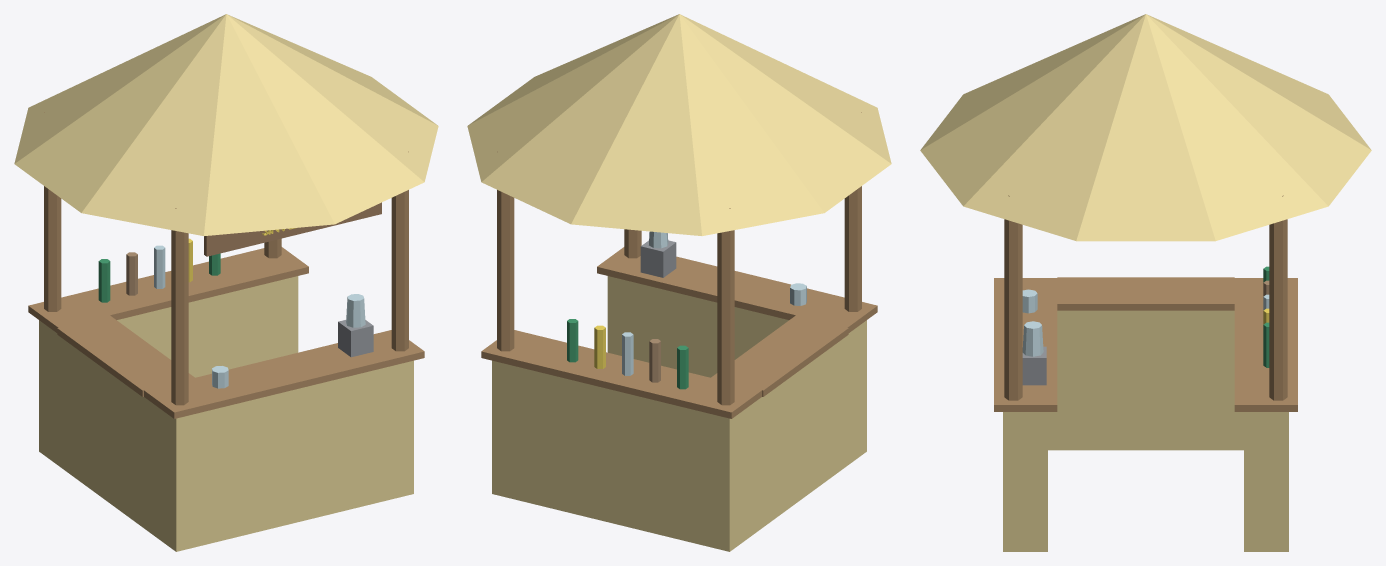
The model's file is CR_BarCubierta.fbx.
3 renders of one model, left to right at view 1: azimuth 30°, elevation 25°; view 2: azimuth 150°, elevation 25°; view 3: azimuth 270°, elevation 25°, orthographic. The views are drawn at different scales.
Parts seen in each view (by area): view 1: CR_BarCubierta; view 2: CR_BarCubierta; view 3: CR_BarCubierta.
Boxes of the visible parts, left/top/right/bottom form: CR_BarCubierta: left=14, top=14, right=438, bottom=551; CR_BarCubierta: left=467, top=14, right=891, bottom=551; CR_BarCubierta: left=920, top=14, right=1371, bottom=551.
Bounding box in the file's own units: 2.85 × 3.5 × 3.
